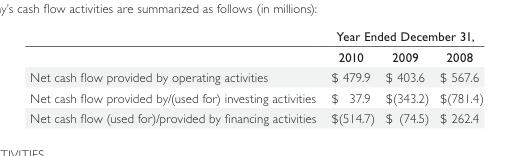table: (29, 28, 482, 125)
table column: (29, 28, 323, 125), (323, 28, 379, 125), (379, 28, 433, 125), (433, 28, 482, 125)
table column header: (29, 28, 482, 67)
table row: (29, 46, 482, 67), (29, 67, 482, 87), (29, 87, 482, 107), (29, 28, 482, 46), (29, 107, 482, 125)
table spanning cell: (323, 28, 482, 46)
